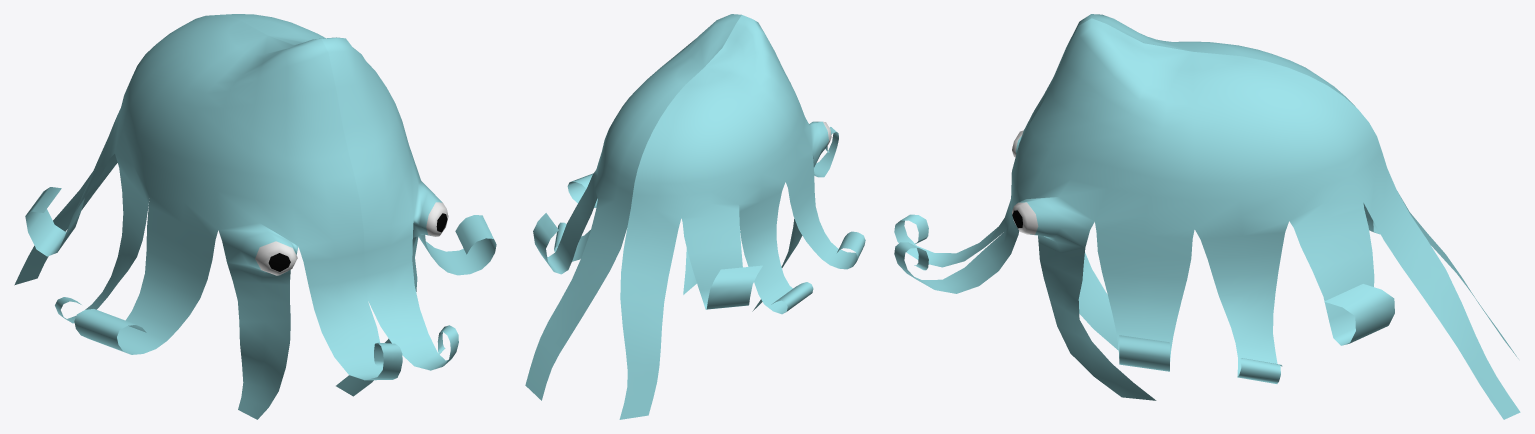
Rendered from OctopusSmall_highPoly_anim.fbx.
3 views of the same model, side by side, from view 1: azimuth 30°, elevation 25°; view 2: azimuth 150°, elevation 25°; view 3: azimuth 270°, elevation 25° (orthographic). The views are drawn at different scales.
Visible parts, largest first — view 1: OctopusSmall; view 2: OctopusSmall; view 3: OctopusSmall.
Boxes of the visible parts, bbox=[...] form: OctopusSmall: bbox=[14, 14, 496, 419]; OctopusSmall: bbox=[525, 14, 865, 419]; OctopusSmall: bbox=[894, 14, 1520, 419].
Size of the model in its own units: 194 by 177 by 273.
